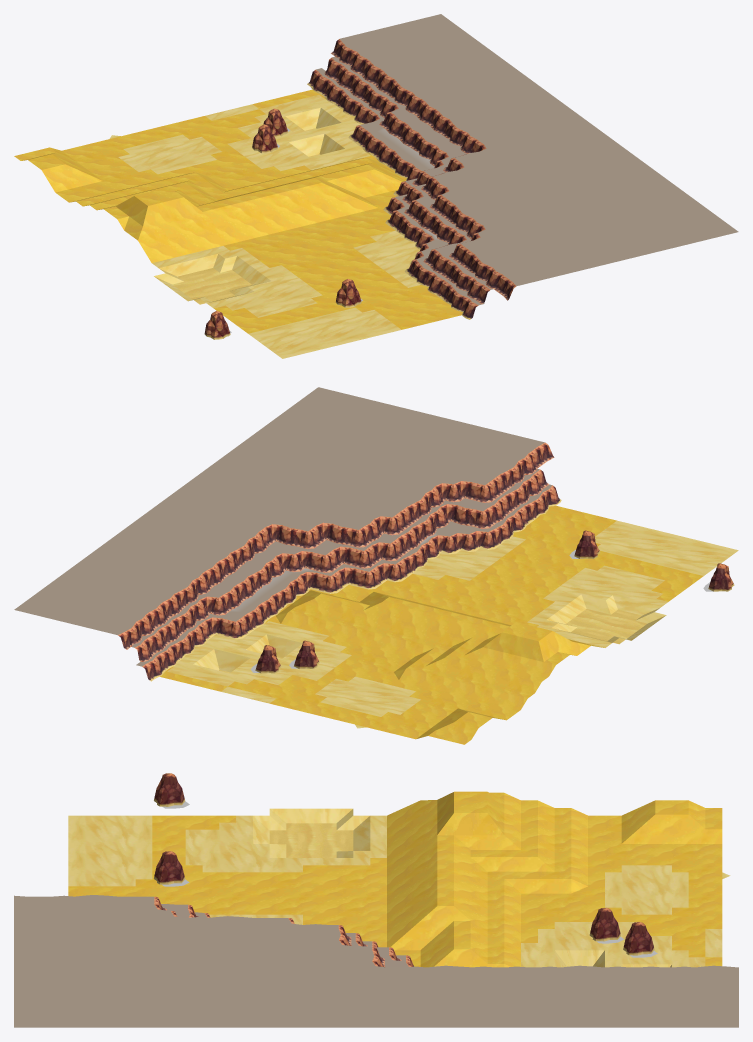
The picture shows the model from 3 angles, top to bottom: view 1: azimuth 30°, elevation 25°; view 2: azimuth 150°, elevation 25°; view 3: azimuth 270°, elevation 25°; orthographic projection. The views are drawn at different scales.
Visible parts, largest first — view 1: _1_0_node, _6_0_node, _2_0_node, _7_0_node-UV1, _4_0_node, _5_0_node-UV1, _0_0_node, _3_0_node; view 2: _1_0_node, _6_0_node, _2_0_node, _7_0_node-UV1, _4_0_node, _5_0_node-UV1, _0_0_node, _3_0_node; view 3: _1_0_node, _6_0_node, _7_0_node-UV1, _4_0_node, _5_0_node-UV1, _0_0_node, _3_0_node, _2_0_node.
Part boxes in pixels (x1,y1,x2,y2): _1_0_node: (316,14,738,305); _6_0_node: (14,89,462,333); _2_0_node: (307,39,516,319); _7_0_node-UV1: (109,94,420,338); _4_0_node: (137,102,419,358); _5_0_node-UV1: (154,107,344,303); _0_0_node: (204,108,361,339); _3_0_node: (172,128,319,304); _1_0_node: (14,387,552,666); _6_0_node: (160,505,703,744); _2_0_node: (118,442,561,681); _7_0_node-UV1: (167,520,710,728); _4_0_node: (180,526,738,708); _5_0_node-UV1: (193,594,666,672); _0_0_node: (255,530,734,673); _3_0_node: (219,609,646,673); _1_0_node: (14,895,738,1027); _6_0_node: (68,791,722,967); _7_0_node-UV1: (68,815,730,967); _4_0_node: (68,815,688,967); _5_0_node-UV1: (253,808,671,967); _0_0_node: (154,773,654,955); _3_0_node: (269,823,353,857); _2_0_node: (154,896,414,967).
Size of the model in its own units: 707 by 779 by 72.
